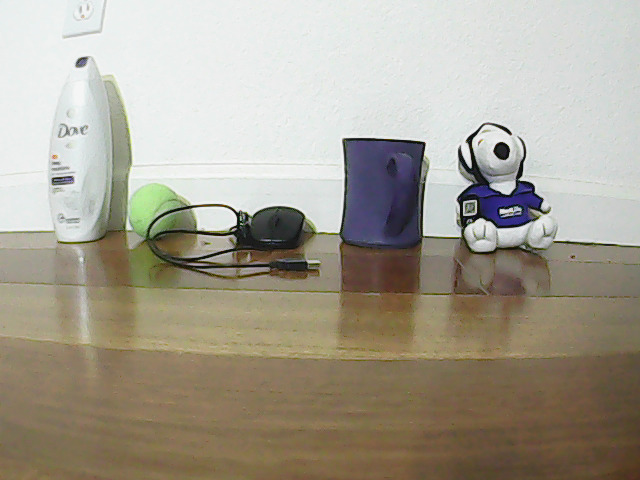ball: (128, 177, 182, 241)
mouse: (231, 191, 307, 257)
mug: (343, 126, 428, 251)
snoopy: (461, 117, 565, 249)
soap: (60, 42, 110, 238)
